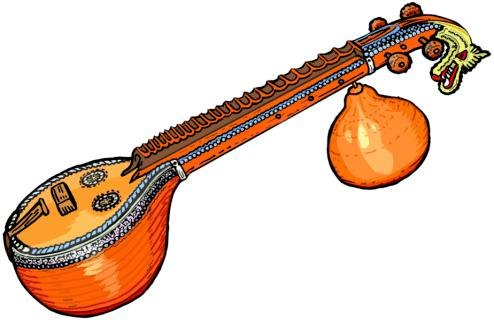Veena: (2, 43, 396, 319)
